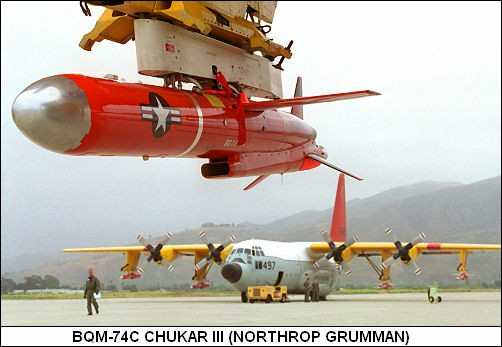maybay_khongnguoilai: (55, 192, 502, 297)
